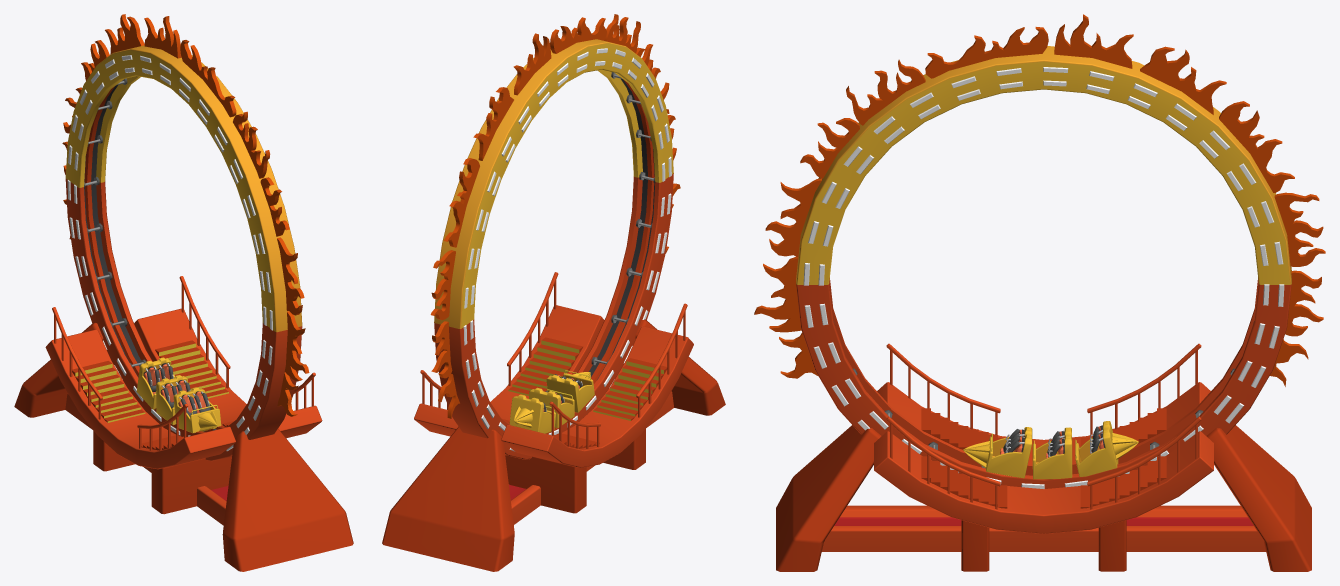
The model's file is attraction_007.gltf.
3 renders of one model, left to right at view 1: azimuth 30°, elevation 25°; view 2: azimuth 150°, elevation 25°; view 3: azimuth 270°, elevation 25°, orthographic. The views are drawn at different scales.
Parts seen in each view (by area): view 1: attraction_7_001, attraction_cabin_1_001, attraction_cabin_1_003, attraction_cabin_1_002; view 2: attraction_7_001, attraction_cabin_1_003, attraction_cabin_1_001, attraction_cabin_1_002; view 3: attraction_7_001, attraction_cabin_1_001, attraction_cabin_1_003, attraction_cabin_1_002.
Part boxes in pixels (x1,y1,x2,y2): attraction_7_001: (14,14,353,571); attraction_cabin_1_001: (173,387,221,433); attraction_cabin_1_003: (136,357,174,409); attraction_cabin_1_002: (156,375,190,424); attraction_7_001: (382,14,725,571); attraction_cabin_1_003: (509,394,555,433); attraction_cabin_1_001: (546,370,594,412); attraction_cabin_1_002: (529,387,574,428); attraction_7_001: (754,14,1325,571); attraction_cabin_1_001: (963,427,1032,478); attraction_cabin_1_003: (1075,421,1138,476); attraction_cabin_1_002: (1032,427,1072,479).
Bounding box in the file's own units: 7.34 × 23.61 × 23.32.
2 materials, 1 textured.
